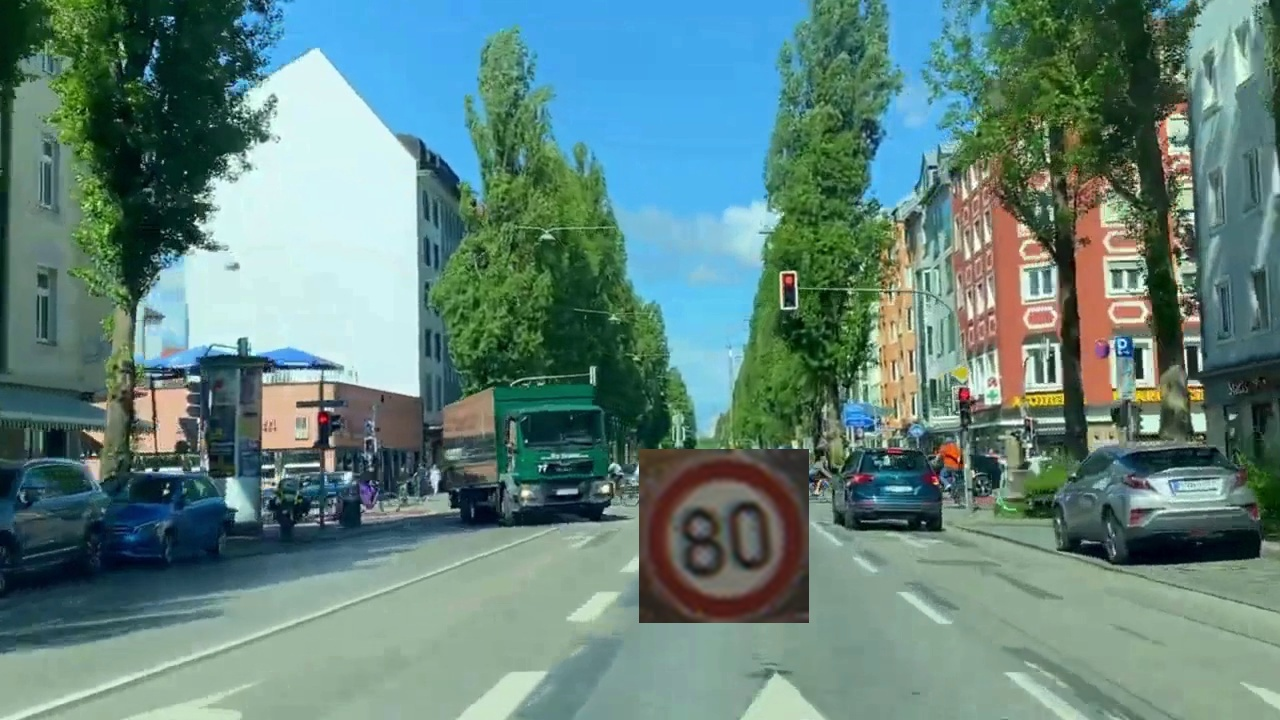Speed 80: (639, 449, 809, 623)
